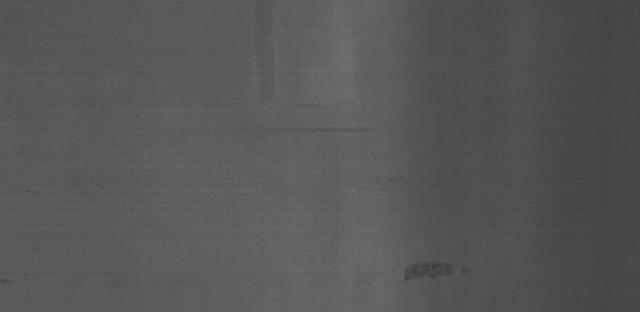oil_spot: (399, 252, 475, 294)
water_spot: (247, 2, 291, 109)
